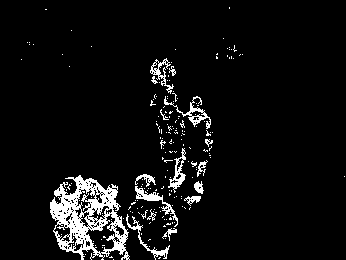person: (125, 171, 179, 260), (182, 94, 213, 204), (156, 94, 185, 195)
